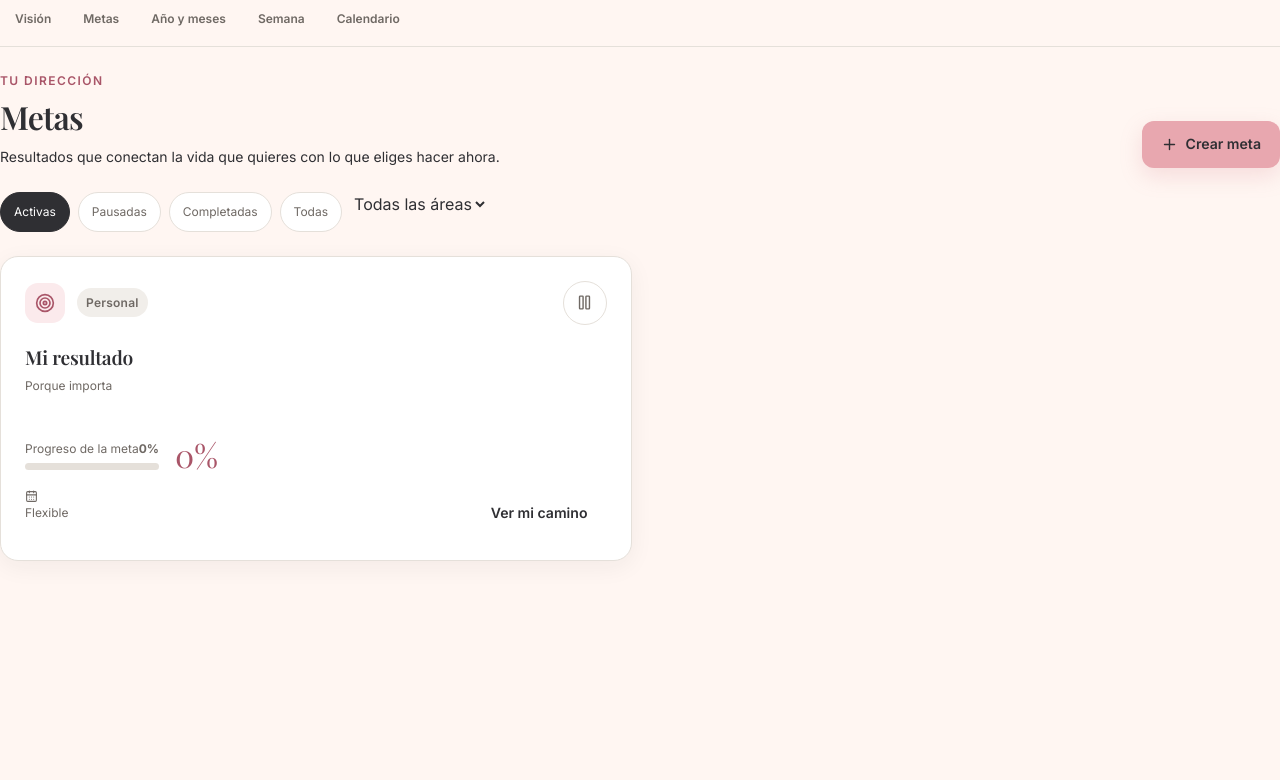
Test case: goal editor drafts › guards linked actions, retains failed changes and updates the original task ID on retry
Click the button "Ver mi camino" at point(539, 513), box [472,490,606,536]
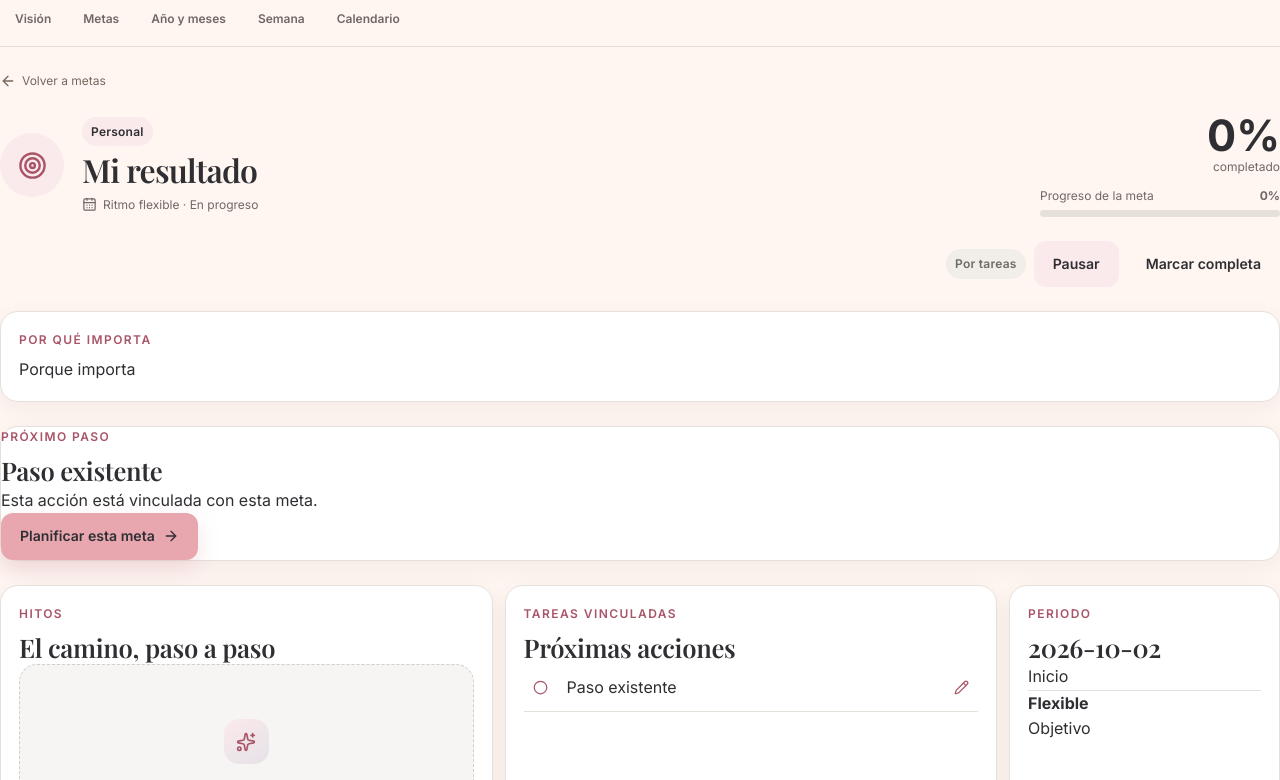
Click the 2nd button named "Editar Paso existente" at point(961, 688), box [944,671,978,705]
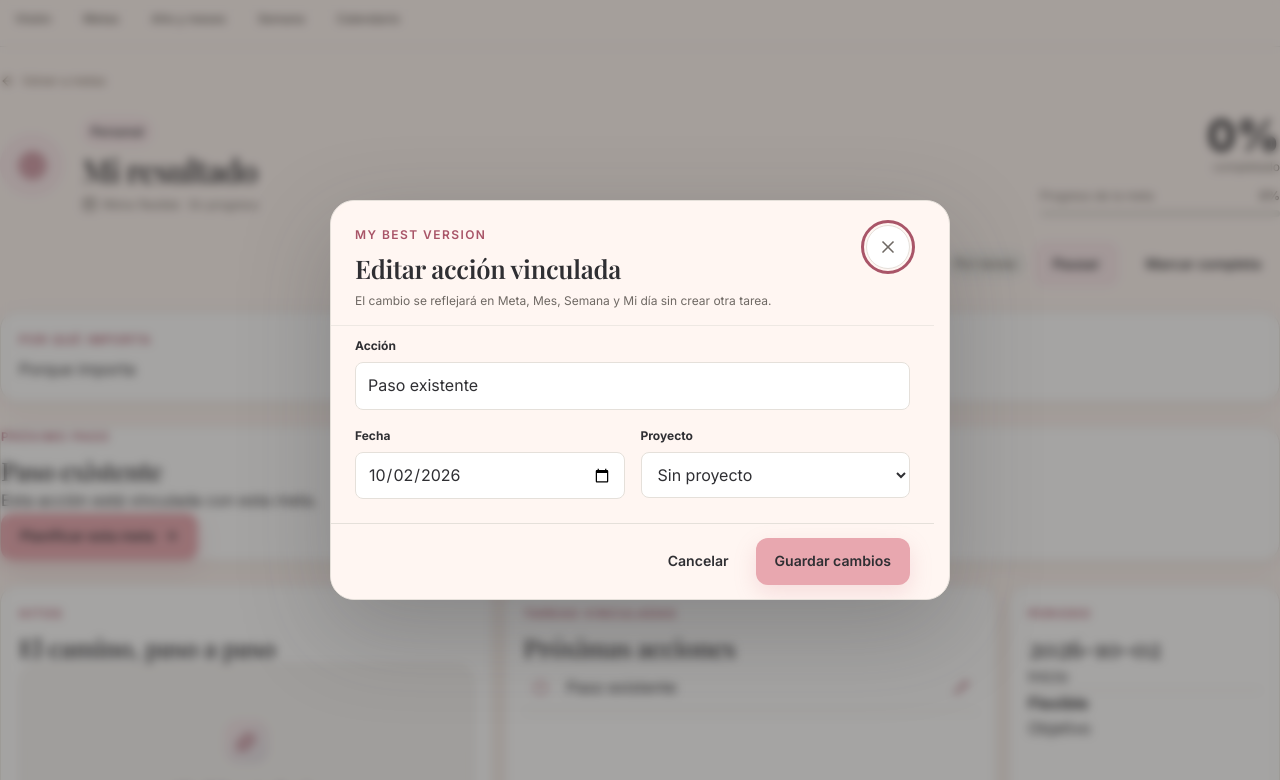
Replace the text in the field labelled "Acción" with "Paso ajustado" at point(632, 386), box [355,362,910,410]
Click the button "Cancelar" at point(698, 562), box [649,538,748,585]
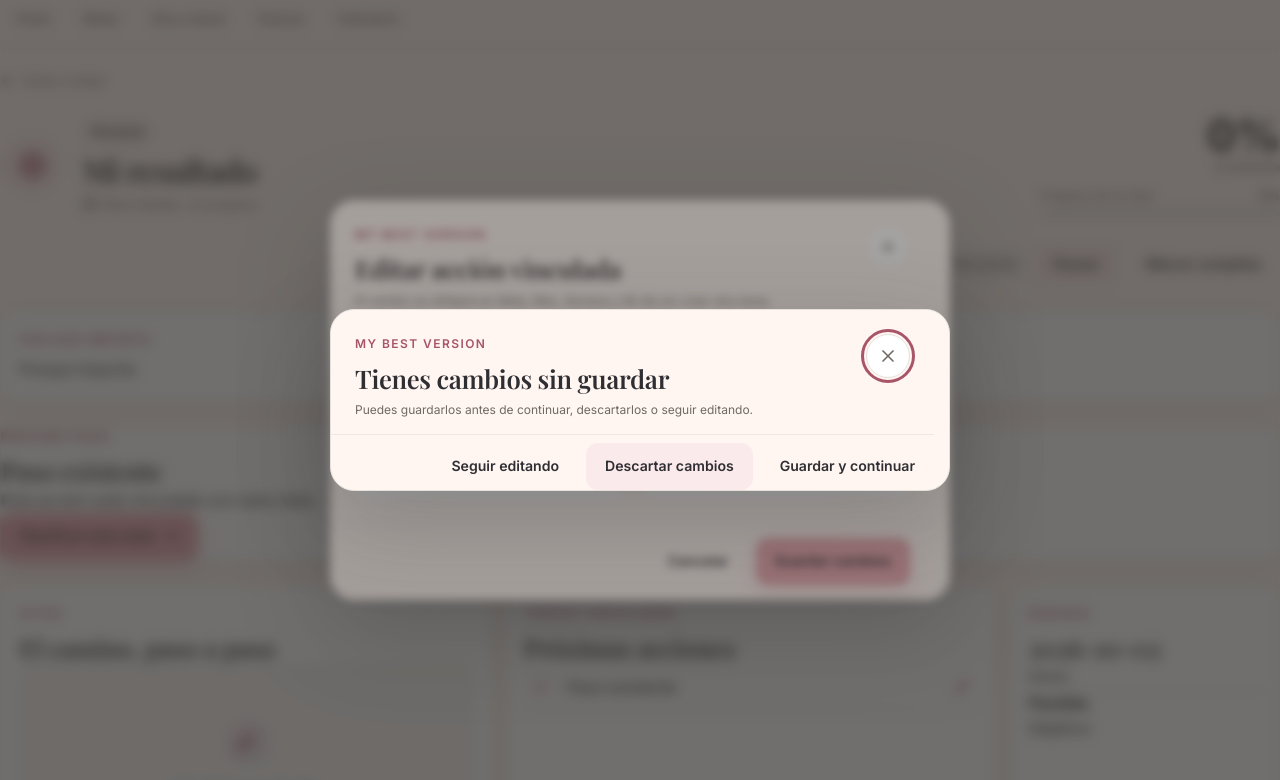
Click the button "Seguir editando" at point(505, 466), box [432,443,578,490]
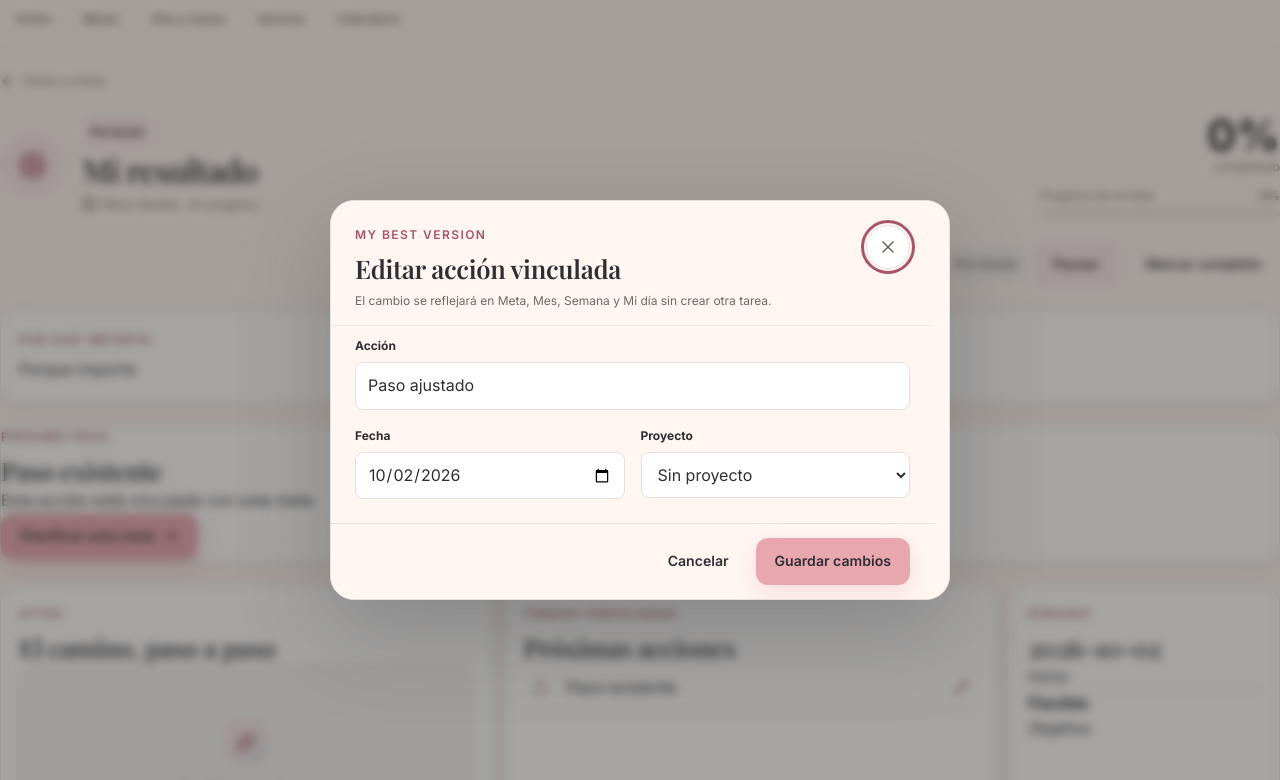
Click the button "Guardar cambios" at point(833, 562), box [756,538,910,585]
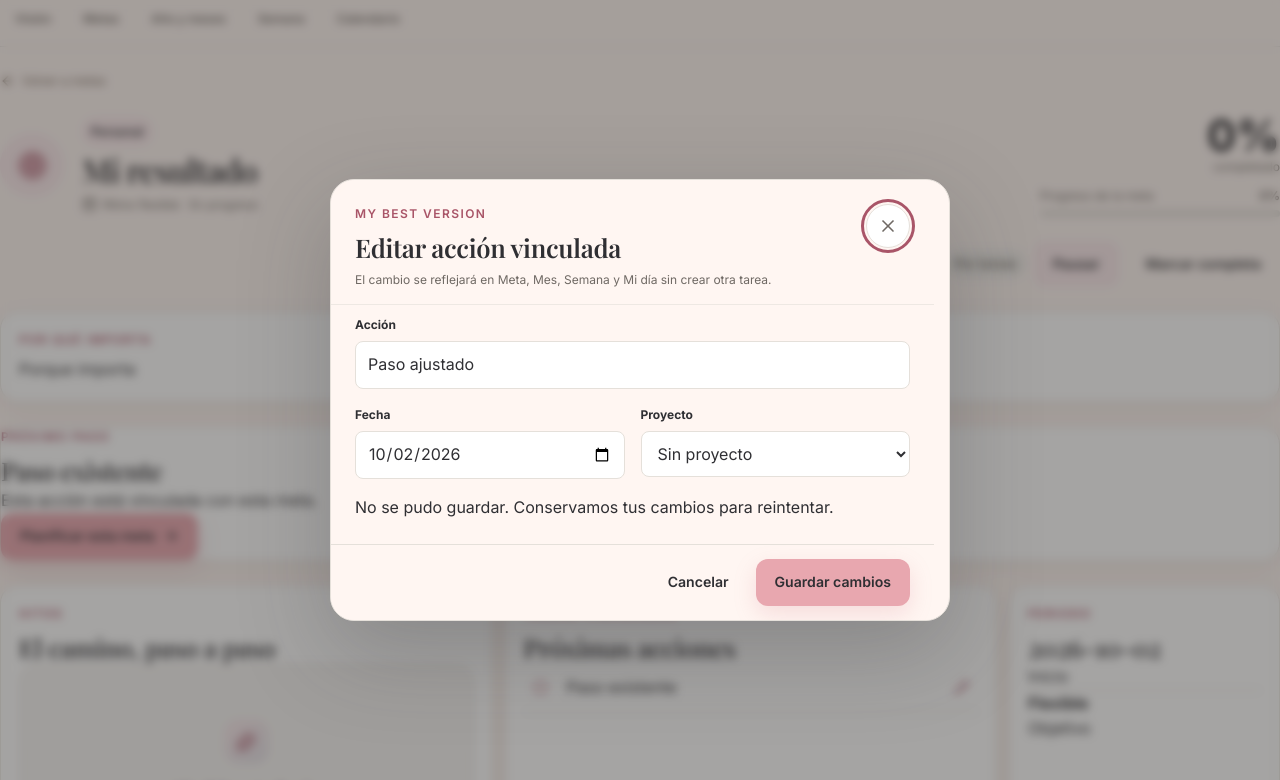
Check: the message "No se pudo guardar. Conservamos tus cambios para reintentar." is shown, box [355,494,910,520]
Click the button "Guardar cambios" at point(833, 582), box [756,559,910,606]
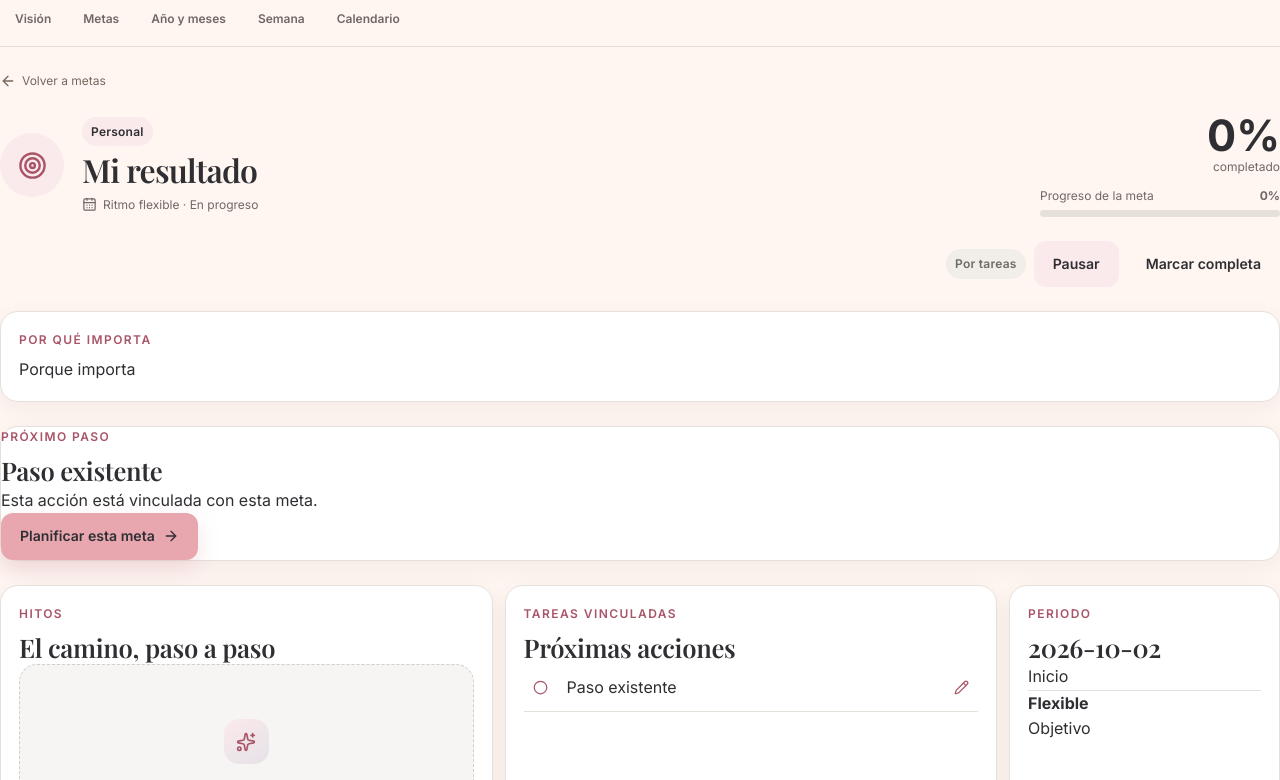
Check: the dialog is gone
